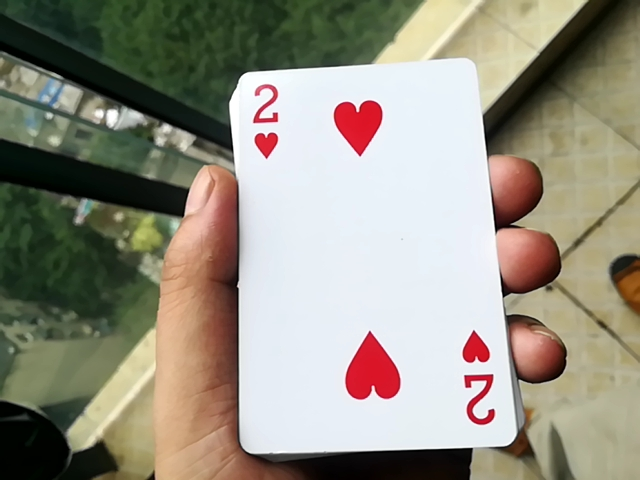hx 2: (221, 49, 514, 453)
